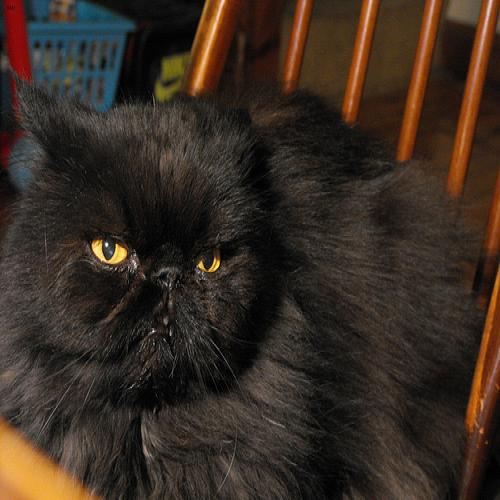persian: (11, 76, 299, 408)
